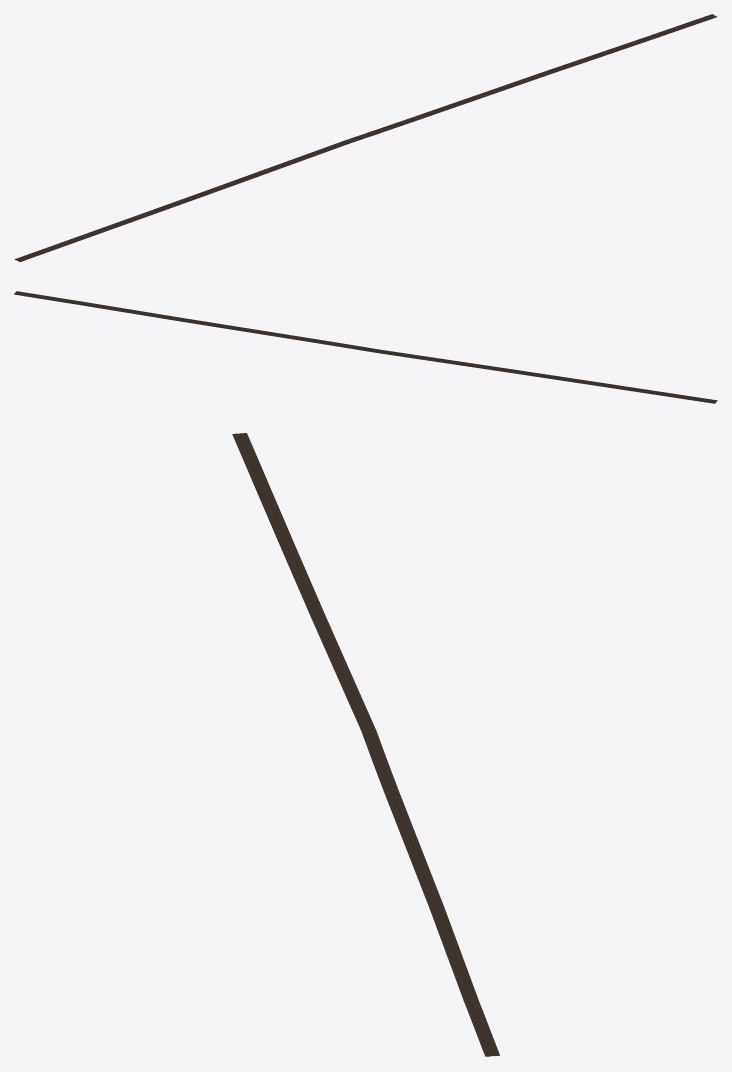
Rendered from kobe_0019.glb.
3 renders of one model, top to bottom at view 1: azimuth 30°, elevation 25°; view 2: azimuth 150°, elevation 25°; view 3: azimuth 270°, elevation 25°, orthographic. The views are drawn at different scales.
Visible parts, largest first — view 1: ballast_top, oxidised_rail_profiles; view 2: ballast_top, oxidised_rail_profiles, ballast_left; view 3: ballast_top, oxidised_rail_profiles.
Part boxes in pixels (box(x1,y1,x2,y2)): ballast_top: box(14, 14, 716, 261); oxidised_rail_profiles: box(15, 14, 716, 261); ballast_top: box(14, 291, 717, 403); oxidised_rail_profiles: box(14, 291, 716, 402); ballast_left: box(14, 294, 715, 403); ballast_top: box(232, 433, 499, 1056); oxidised_rail_profiles: box(234, 433, 497, 1055).
Bounding box in the file's own units: 745 × 0.819 × 136.
4 materials, 3 textured.
